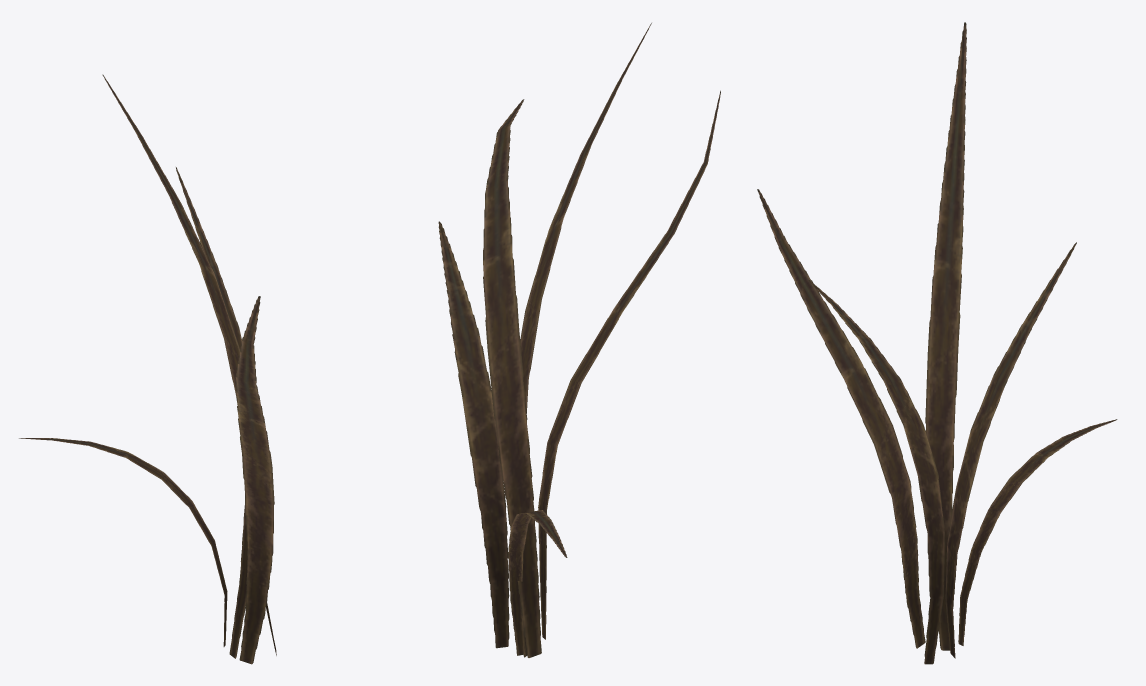
Rendered from SM_grass_bunch_01.fbx.
3 renders of one model, left to right at view 1: azimuth 30°, elevation 25°; view 2: azimuth 150°, elevation 25°; view 3: azimuth 270°, elevation 25°, orthographic. The views are drawn at different scales.
Visible parts, largest first — view 1: SM_grass_bunch_01; view 2: SM_grass_bunch_01; view 3: SM_grass_bunch_01.
Part boxes in pixels (x1,y1,x2,y2): SM_grass_bunch_01: (19,74,276,664); SM_grass_bunch_01: (438,23,720,657); SM_grass_bunch_01: (757,22,1117,664).
Bounding box in the file's own units: 13.6 × 21.5 × 36.86.
